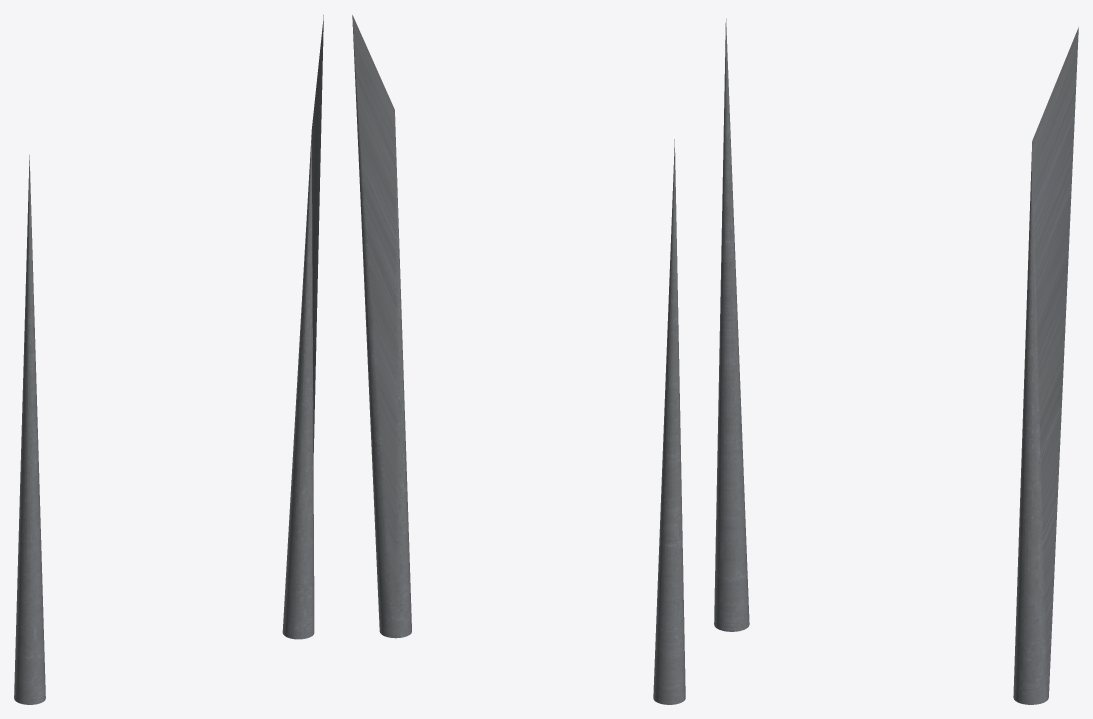
Rendered from KibuiOrangeAtzorShelet_LOD2.gltf.
3 views of the same model, side by side, from view 1: azimuth 30°, elevation 25°; view 2: azimuth 150°, elevation 25°; view 3: azimuth 330°, elevation 25° (orthographic). The views are drawn at different scales.
Parts seen in each view (by area): view 1: node7; view 2: node7; view 3: node7.
Boxes of the visible parts, left/top/right/bottom form: node7: left=14, top=15, right=323, bottom=704; node7: left=352, top=15, right=685, bottom=704; node7: left=714, top=18, right=1078, bottom=704.
Size of the model in its own units: 1.15 by 2.1 by 0.1049.
